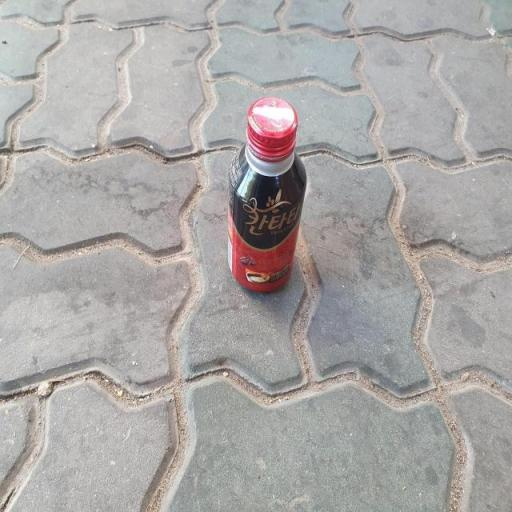metal: (219, 74, 335, 316)
